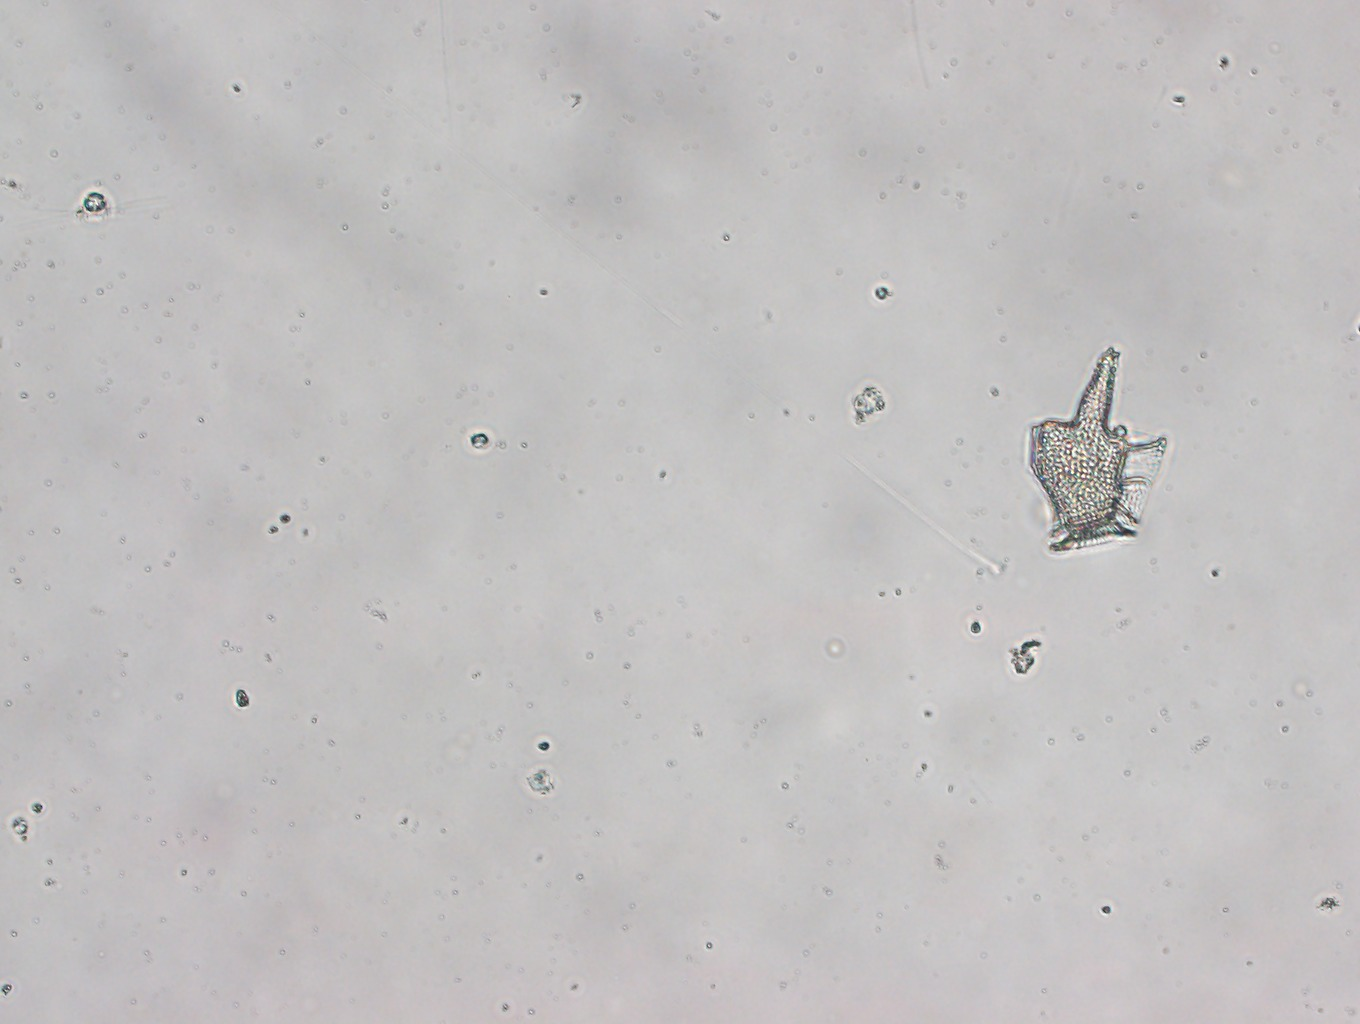dinophysis caudata: (1026, 349, 1168, 556)
